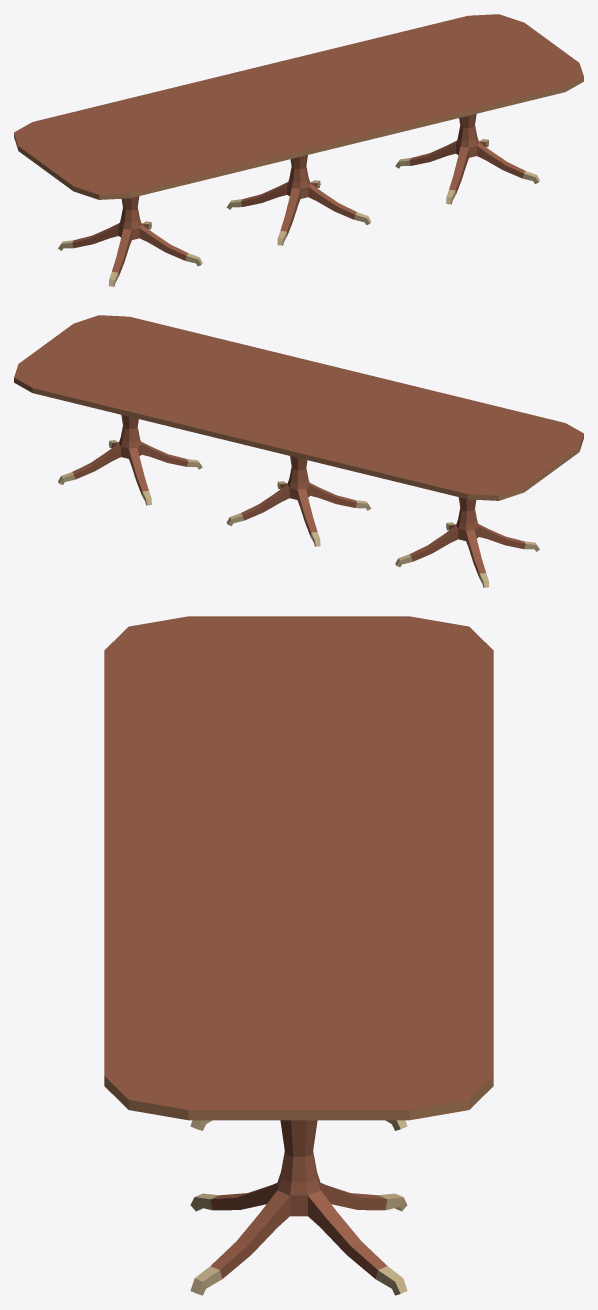
File: mesacomedor.fbx
3 views of the same model, one above another, from view 1: azimuth 30°, elevation 25°; view 2: azimuth 150°, elevation 25°; view 3: azimuth 270°, elevation 25° (orthographic). The views are drawn at different scales.
Parts seen in each view (by area): view 1: mesa_comedor; view 2: mesa_comedor; view 3: mesa_comedor.
Boxes of the visible parts, x1,y1,x2,y2 form: mesa_comedor: [14, 14, 583, 286]; mesa_comedor: [14, 315, 583, 587]; mesa_comedor: [104, 616, 493, 1295].
Bounding box in the file's own units: 360 × 76.29 × 120.
